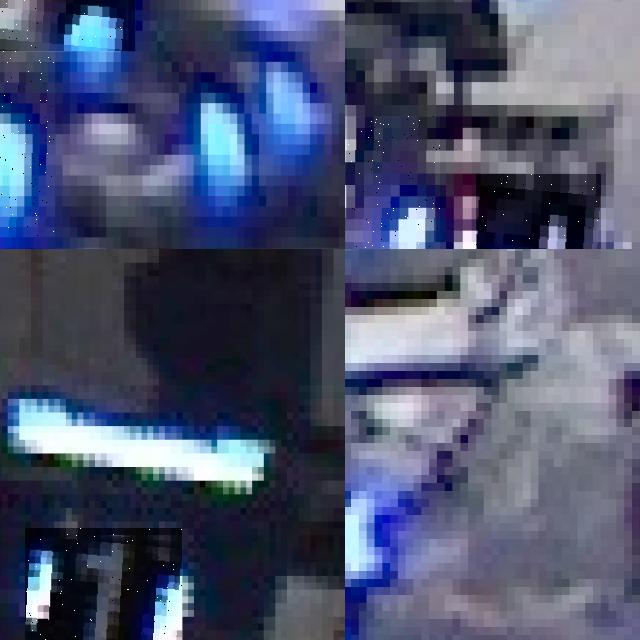B1: (345, 116, 440, 249), (476, 173, 600, 249)
B3: (0, 51, 55, 237), (0, 0, 135, 51)
R1: (25, 528, 182, 640)
